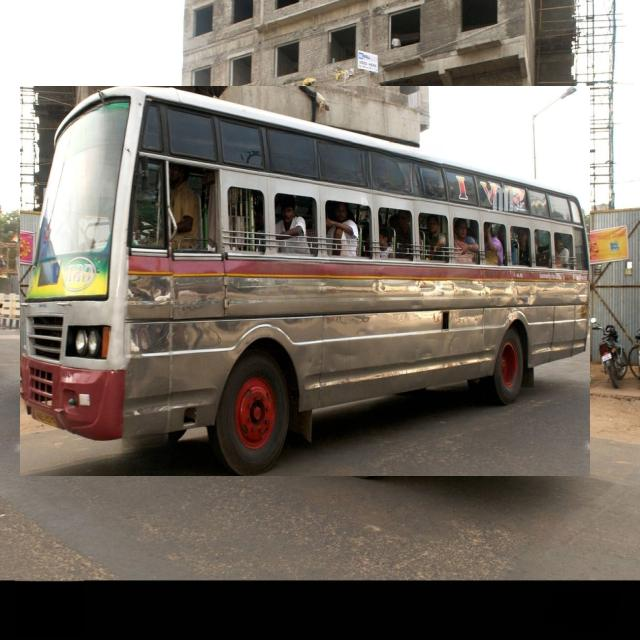bus: (20, 86, 590, 476)
